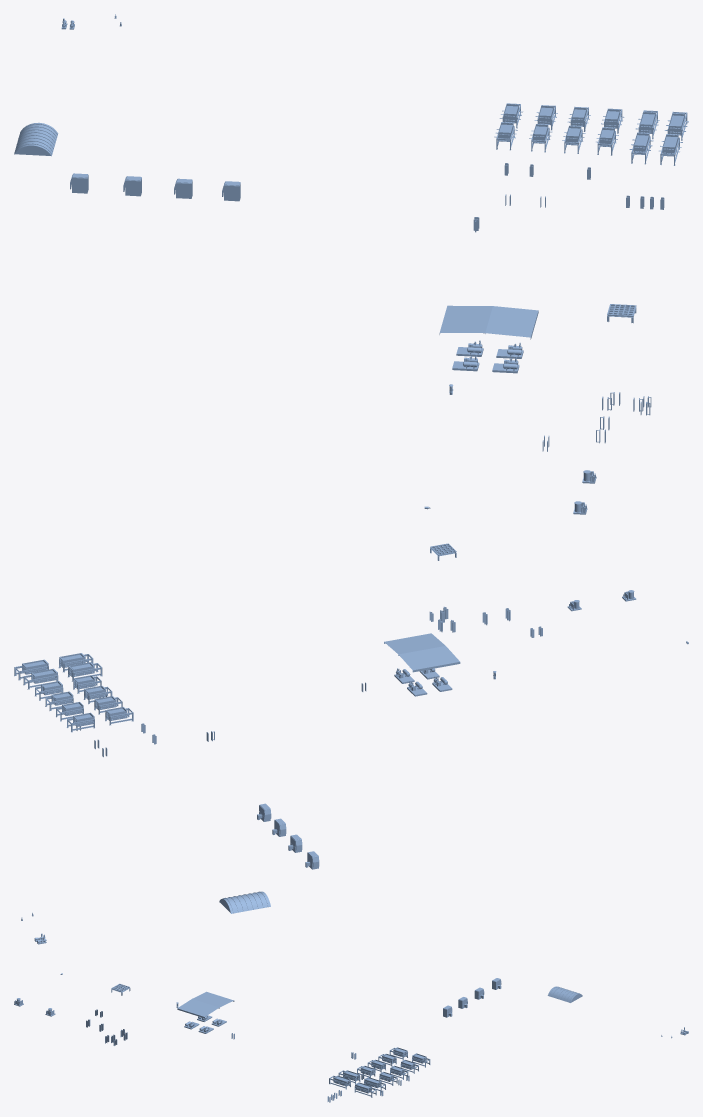
File: NoLod_14.glb
3 renders of one model, top to bottom at view 1: azimuth 30°, elevation 25°; view 2: azimuth 150°, elevation 25°; view 3: azimuth 270°, elevation 25°, orthographic. The views are drawn at different scales.
Visible parts, largest first — view 1: rtc; view 2: rtc; view 3: rtc.
Part boxes in pixels (box(x1,y1,x2,y2)): rtc: box(14, 14, 688, 514); rtc: box(14, 543, 688, 944); rtc: box(14, 973, 688, 1102).
Size of the model in its own units: 113 by 19.58 by 223.
